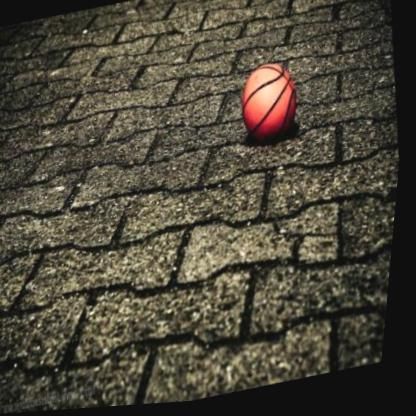basketball: (236, 57, 309, 151)
